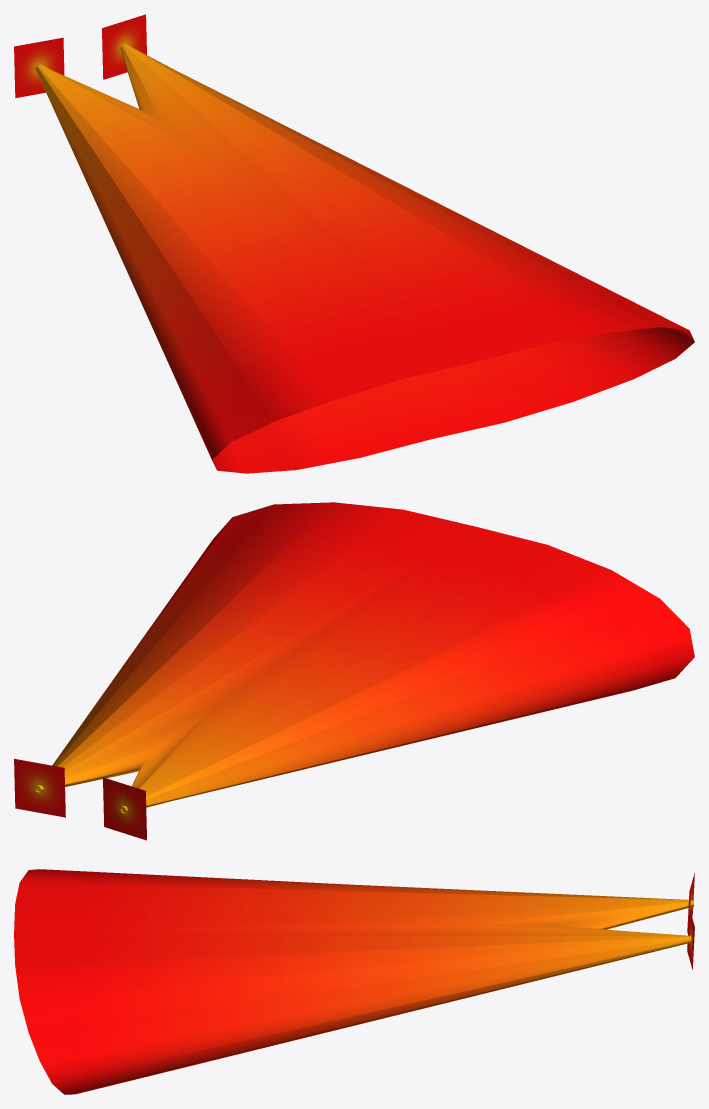
The model's file is mike_hl.obj.
The picture shows the model from 3 angles, top to bottom: view 1: azimuth 30°, elevation 25°; view 2: azimuth 150°, elevation 25°; view 3: azimuth 270°, elevation 25°; orthographic projection. The views are drawn at different scales.
Parts seen in each view (by area): view 1: LOD0_Surf0_g_headlight, LOD0_Surf1_g_headlight_flare; view 2: LOD0_Surf0_g_headlight, LOD0_Surf1_g_headlight_flare; view 3: LOD0_Surf0_g_headlight, LOD0_Surf1_g_headlight_flare.
Boxes of the visible parts, left/top/right/bottom form: LOD0_Surf0_g_headlight: left=35, top=44, right=694, bottom=473; LOD0_Surf1_g_headlight_flare: left=14, top=14, right=146, bottom=98; LOD0_Surf0_g_headlight: left=36, top=502, right=694, bottom=813; LOD0_Surf1_g_headlight_flare: left=14, top=758, right=146, bottom=840; LOD0_Surf0_g_headlight: left=14, top=869, right=693, bottom=1094; LOD0_Surf1_g_headlight_flare: left=687, top=872, right=694, bottom=969.
Size of the model in its own units: 0.2675 by 0.08 by 0.38.
Materials: 2 (2 with a texture image).
